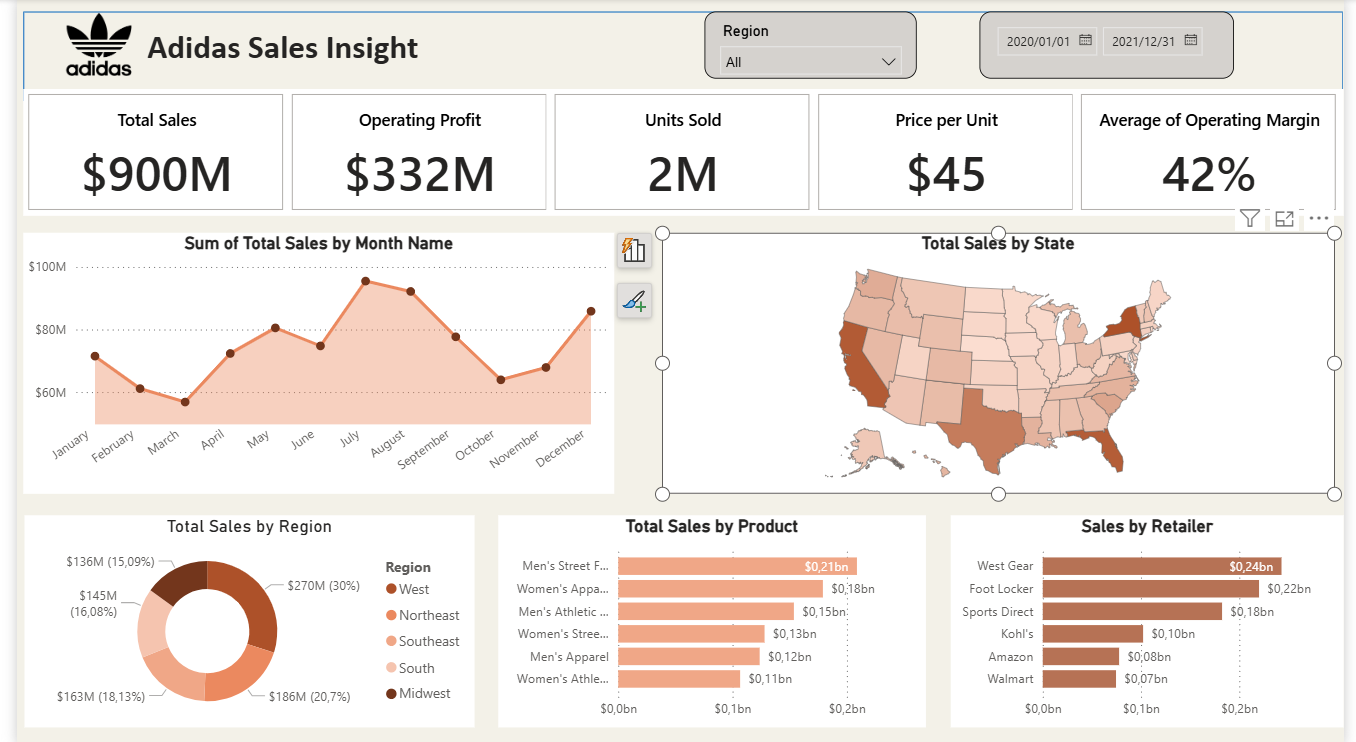

What the dashboard file says about the page in this screenshot:
{"tool":"powerbi","page":{"name":"Page 1","canvas":[1280,720],"ordinal":0},"visuals":[{"type":"shape","box":[5.8,11.5,1274,86.6],"z":0},{"type":"textbox","box":[121.2,21.6,340.5,64.9],"z":1000},{"type":"cardVisual","fields":{"Data":["Sum(Data Sales Adidas.Total Sales)","Sum(Data Sales Adidas.Operating Profit)","Sum(Data Sales Adidas.Units Sold)","Avg(Data Sales Adidas.Price per Unit)","Avg(Data Sales Adidas.Operating Margin)"]},"box":[5.7,86.8,1274.3,122.3],"z":2000},{"type":"areaChart","fields":{"Category":["Data Sales Adidas.Month Name"],"Y":["Sum(Data Sales Adidas.Total Sales)"]},"box":[6,225.6,570.6,252.1],"z":3000},{"type":"donutChart","title":"Total Sales by Region","fields":{"Category":["Data Sales Adidas.Region"],"Y":["Sum(Data Sales Adidas.Total Sales)"]},"box":[6.7,498.7,434.3,204.9],"z":5000},{"type":"barChart","title":" Total Sales by Product","fields":{"Category":["Data Sales Adidas.Product"],"Y":["Sum(Data Sales Adidas.Total Sales)"]},"box":[464.7,498.7,412.6,204.9],"z":6000},{"type":"barChart","title":"Sales by Retailer","fields":{"Y":["Sum(Data Sales Adidas.Total Sales)"],"Category":["Data Sales Adidas.Retailer"]},"box":[901.2,498.7,379.4,204.9],"z":7000},{"type":"slicer","fields":{"Values":["Data Sales Adidas.Region"]},"box":[663.8,12.1,205.1,65.1],"z":8000},{"type":"slicer","fields":{"Values":["Data Sales Adidas.Invoice Date"]},"box":[929.1,11.5,245.3,64.9],"z":9000},{"type":"image","box":[37.5,0,83.7,86.6],"z":10000},{"type":"shapeMap","title":"Total Sales by State","fields":{"Category":["Data Sales Adidas.State"],"Value":["Sum(Data Sales Adidas.Total Sales)"]},"box":[622.5,225.6,649.1,252.1],"z":10001}]}

Visuals, with their boxes in screenshot pixels (x1, y1, x2, y2), scaled from the page's 1280x720 canvas onto the 1356x742 screenshot:
shape: bbox(6, 12, 1355, 101)
textbox: bbox(128, 22, 489, 89)
cardVisual - Sum(Data Sales Adidas.Total Sales) x Sum(Data Sales Adidas.Operating Profit): bbox(6, 89, 1355, 215)
areaChart - Data Sales Adidas.Month Name x Sum(Data Sales Adidas.Total Sales): bbox(6, 232, 611, 492)
"Total Sales by Region" donutChart: bbox(7, 514, 467, 725)
" Total Sales by Product" barChart: bbox(492, 514, 929, 725)
"Sales by Retailer" barChart: bbox(955, 514, 1355, 725)
slicer - Data Sales Adidas.Region: bbox(703, 12, 920, 80)
slicer - Data Sales Adidas.Invoice Date: bbox(984, 12, 1244, 79)
image: bbox(40, 0, 128, 89)
"Total Sales by State" shapeMap: bbox(659, 232, 1347, 492)
